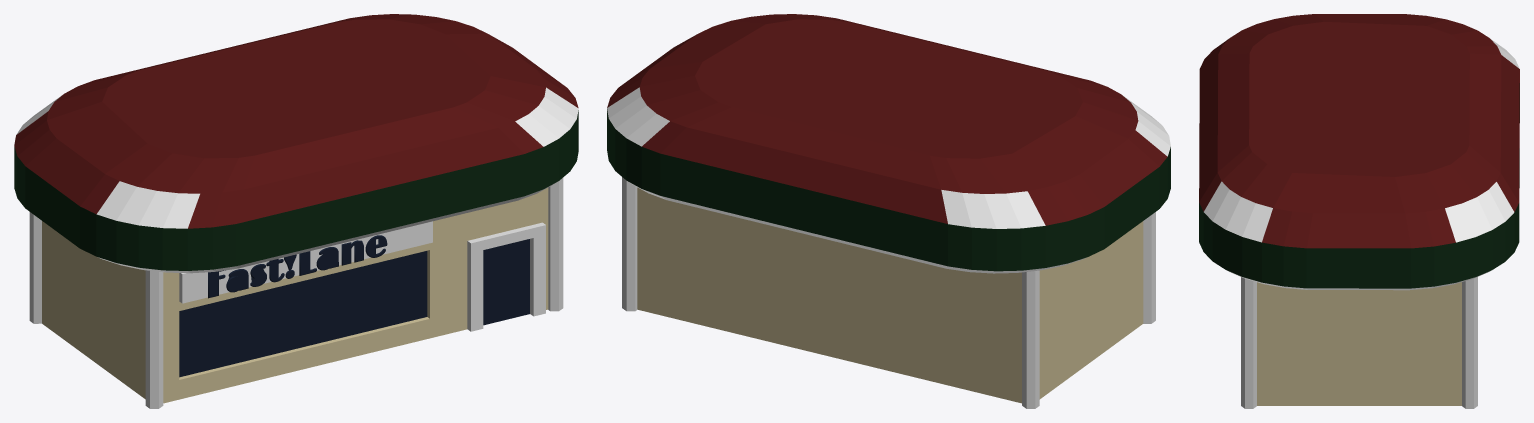
File: FastLaneTextMerged.fbx
3 views of the same model, side by side, from view 1: azimuth 30°, elevation 25°; view 2: azimuth 150°, elevation 25°; view 3: azimuth 270°, elevation 25° (orthographic). The views are drawn at different scales.
Parts seen in each view (by area): view 1: Cube; view 2: Cube; view 3: Cube.
Boxes of the visible parts, x1,y1,x2,y2 form: Cube: (14,14,578,408); Cube: (607,14,1170,408); Cube: (1199,14,1519,408).
Size of the model in its own units: 649 by 287 by 390.
